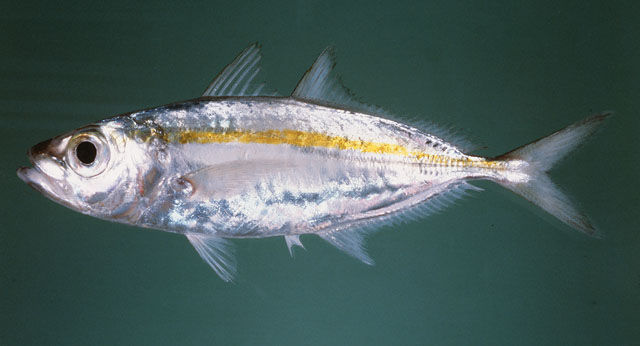fish: (17, 42, 616, 286)
